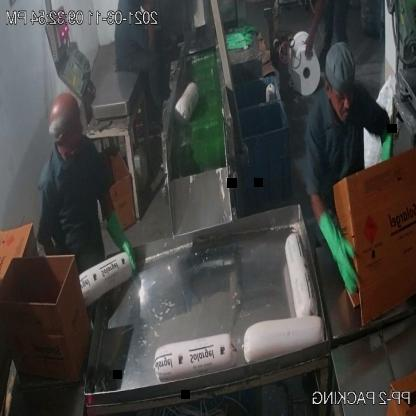no_glove: (302, 0, 327, 73)
